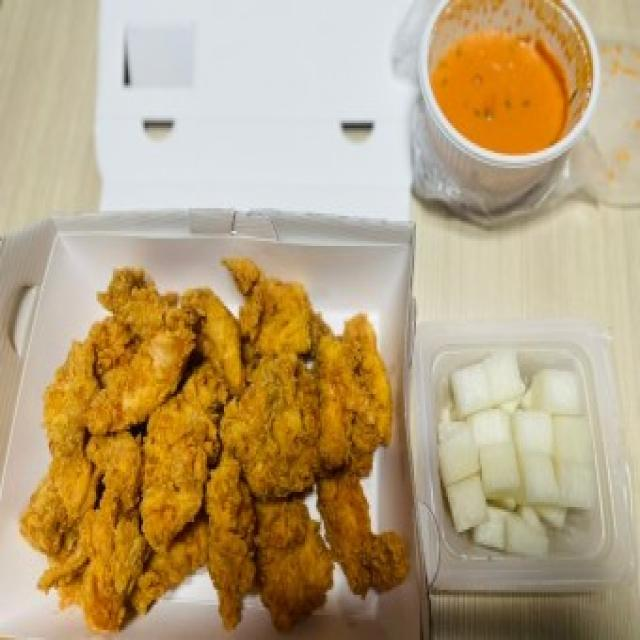Frango: (20, 245, 406, 626)
